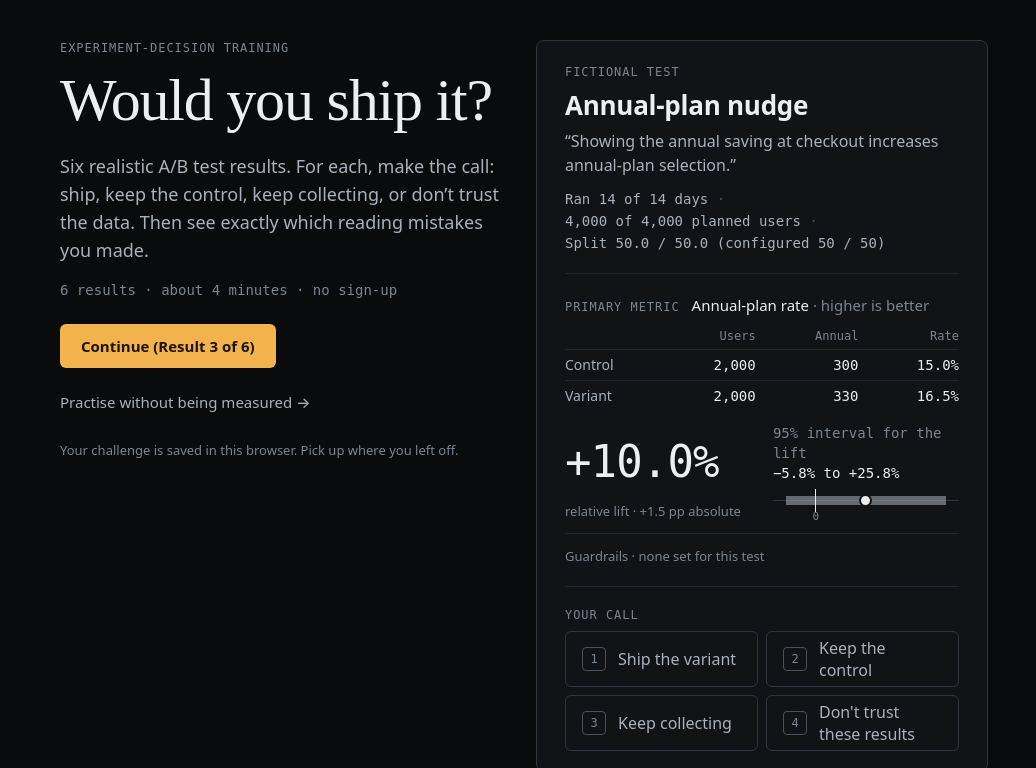
Test: Landing › in progress: Continue at the saved result, without asking Flagsmith
The width and height of the screenshot is (1036, 768).
Click the button "Continue (Result 3 of 6)" at (168, 346), box [60,324,276,368]
(page scrolled)
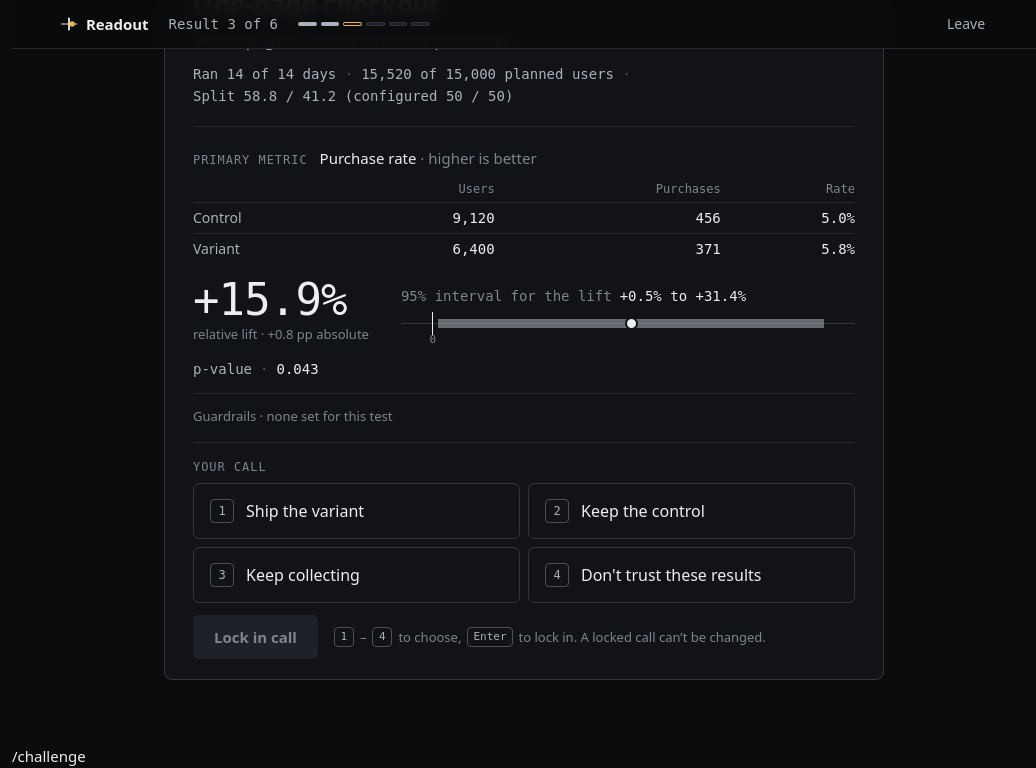
Result: the text with test id "path" reads "/challenge" at [12,746,86,766]
